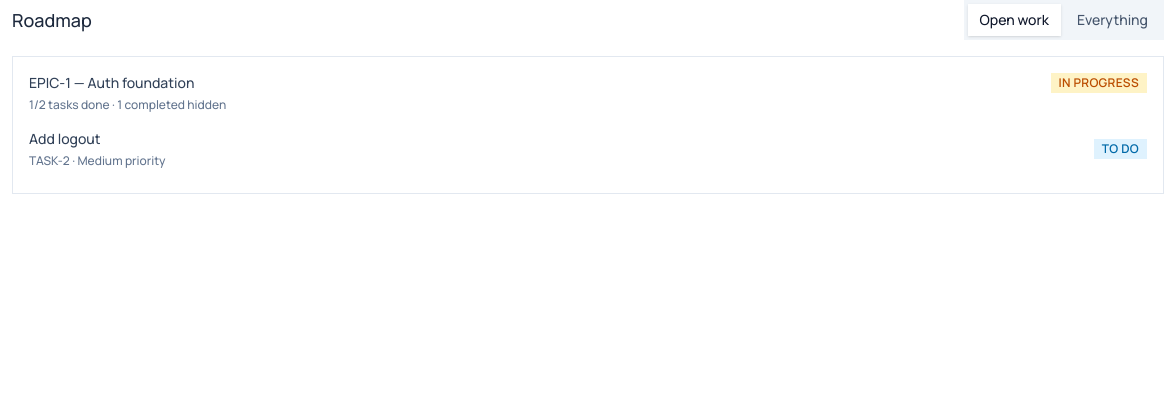
Test: RoadmapPage › switching to Everything reveals completed work
expect the text "EPIC-1 — Auth foundation" is shown: met, box [29,73,194,92]
What coordinates should you click on to do the following:
click the button "Everything"
I would click on:
 (1112, 20)
Its box is [1065,4,1160,36].
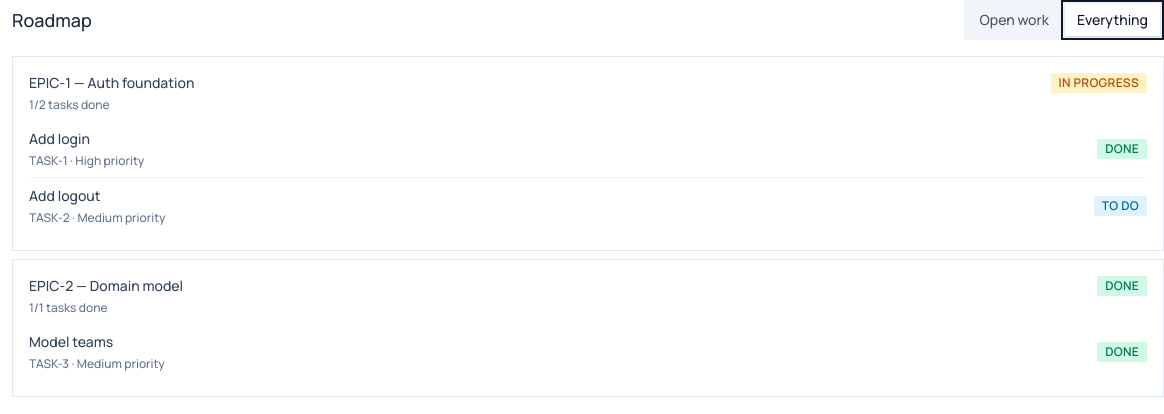
expect the text "Add login" is shown: met, box [29,129,90,148]
expect the text "EPIC-2 — Domain model" is shown: met, box [29,276,183,296]
expect the text "Model teams" is shown: met, box [29,332,113,351]
